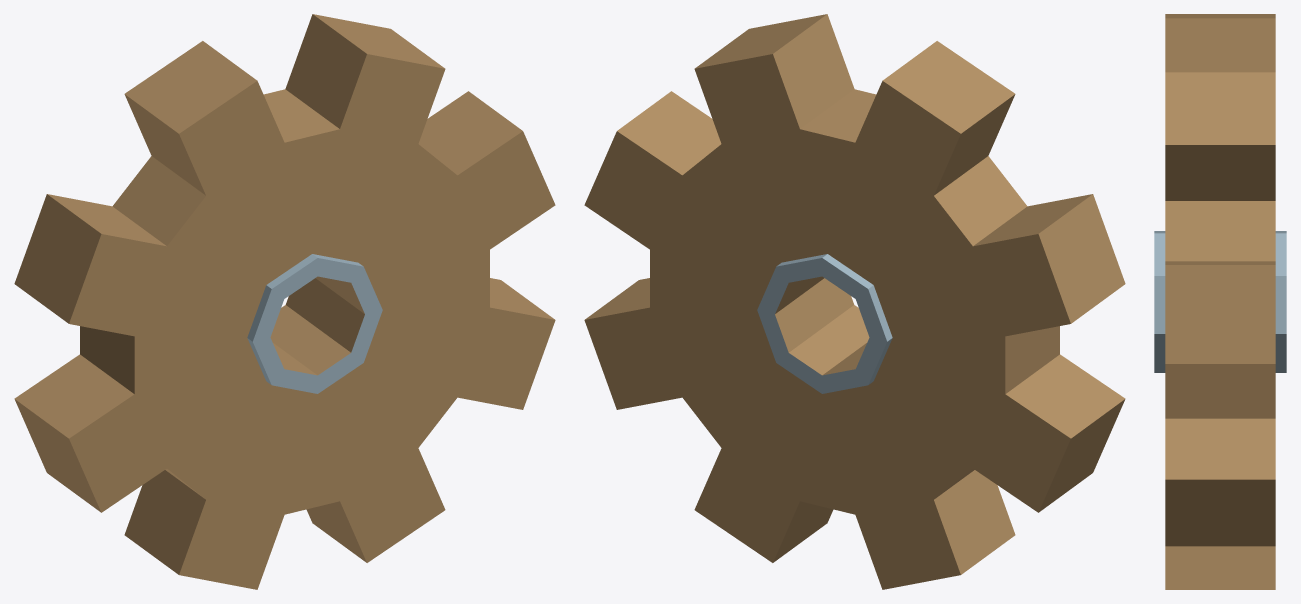
File: GearWheel.fbx
3 renders of one model, left to right at view 1: azimuth 30°, elevation 25°; view 2: azimuth 150°, elevation 25°; view 3: azimuth 270°, elevation 25°, orthographic.
Visible parts, largest first — view 1: Gear_Wheel; view 2: Gear_Wheel; view 3: Gear_Wheel.
Part boxes in pixels (left/top/right/bottom): Gear_Wheel: left=14, top=14, right=555, bottom=589; Gear_Wheel: left=584, top=14, right=1125, bottom=589; Gear_Wheel: left=1154, top=14, right=1286, bottom=589.
Size of the model in its own units: 1029 by 1029 by 240.
